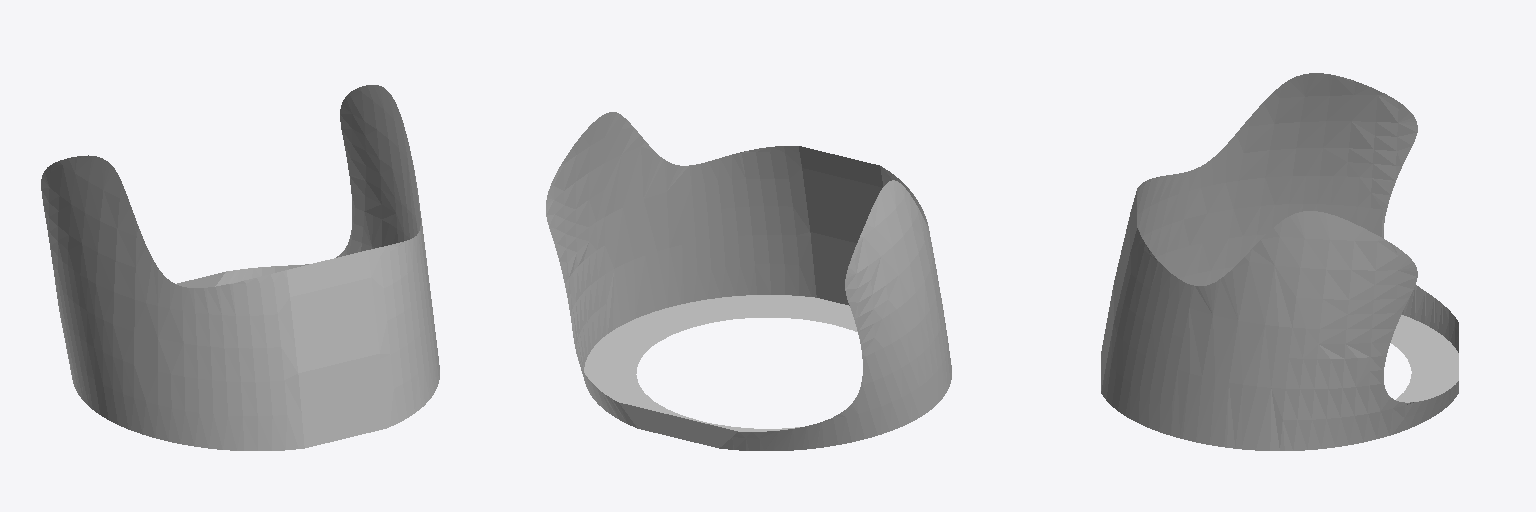
The model's file is SchulterR_B.obj.
3 views of the same model, side by side, from view 1: azimuth 30°, elevation 25°; view 2: azimuth 150°, elevation 25°; view 3: azimuth 270°, elevation 25° (orthographic).
Visible parts, largest first — view 1: Stamm|Minimal-SchulterR_(Standard)|Schulter_rechts-1|Schulter_re; view 2: Stamm|Minimal-SchulterR_(Standard)|Schulter_rechts-1|Schulter_re; view 3: Stamm|Minimal-SchulterR_(Standard)|Schulter_rechts-1|Schulter_re.
Part boxes in pixels (x1,y1,x2,y2): Stamm|Minimal-SchulterR_(Standard)|Schulter_rechts-1|Schulter_re: (41, 85, 439, 450); Stamm|Minimal-SchulterR_(Standard)|Schulter_rechts-1|Schulter_re: (546, 112, 951, 450); Stamm|Minimal-SchulterR_(Standard)|Schulter_rechts-1|Schulter_re: (1101, 73, 1458, 450).
Bounding box in the file's own units: 0.118 × 0.0824 × 0.1141.